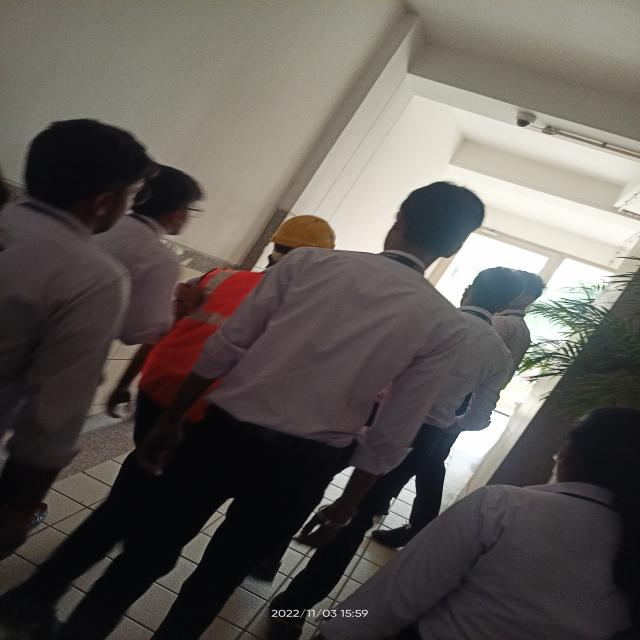unsafe: (145, 175, 494, 640), (337, 402, 637, 640), (4, 112, 141, 553), (601, 274, 605, 275)
